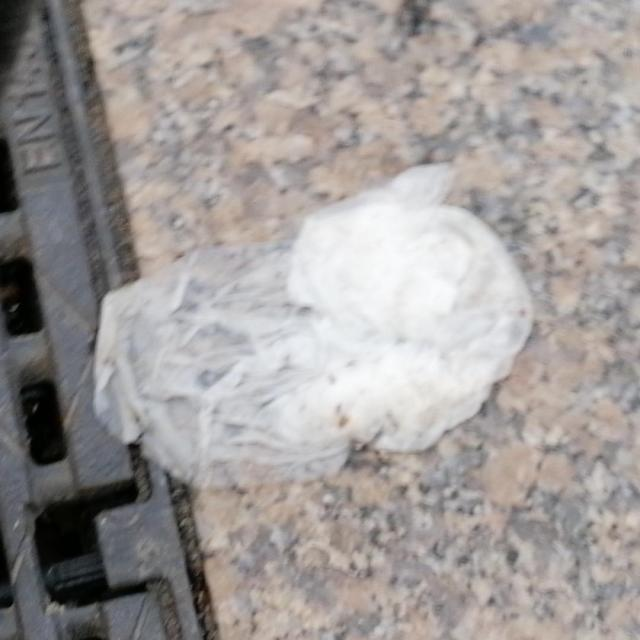Paper: (92, 162, 536, 494)
